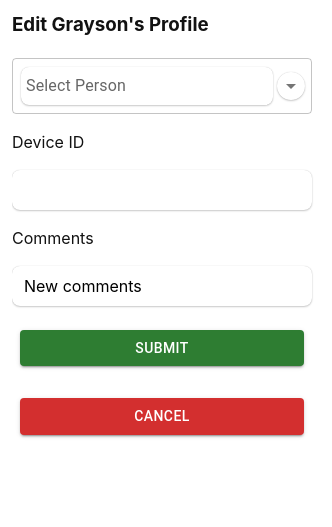
Test: Edit Component › should return validation error when device id is not provided
The width and height of the screenshot is (332, 527).
Click the button labelled "Submit". click: click(162, 348)
box: left=20, top=330, right=304, bottom=366
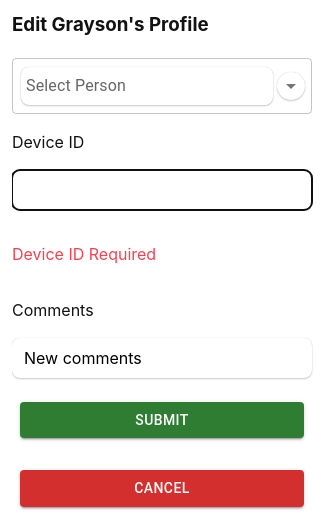
Check: the text "Device ID Required" is shown, box left=12, top=244, right=156, bottom=264
